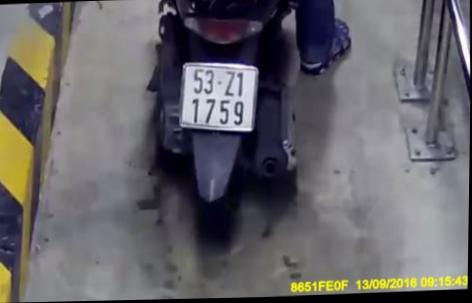LP: (178, 59, 259, 136)
